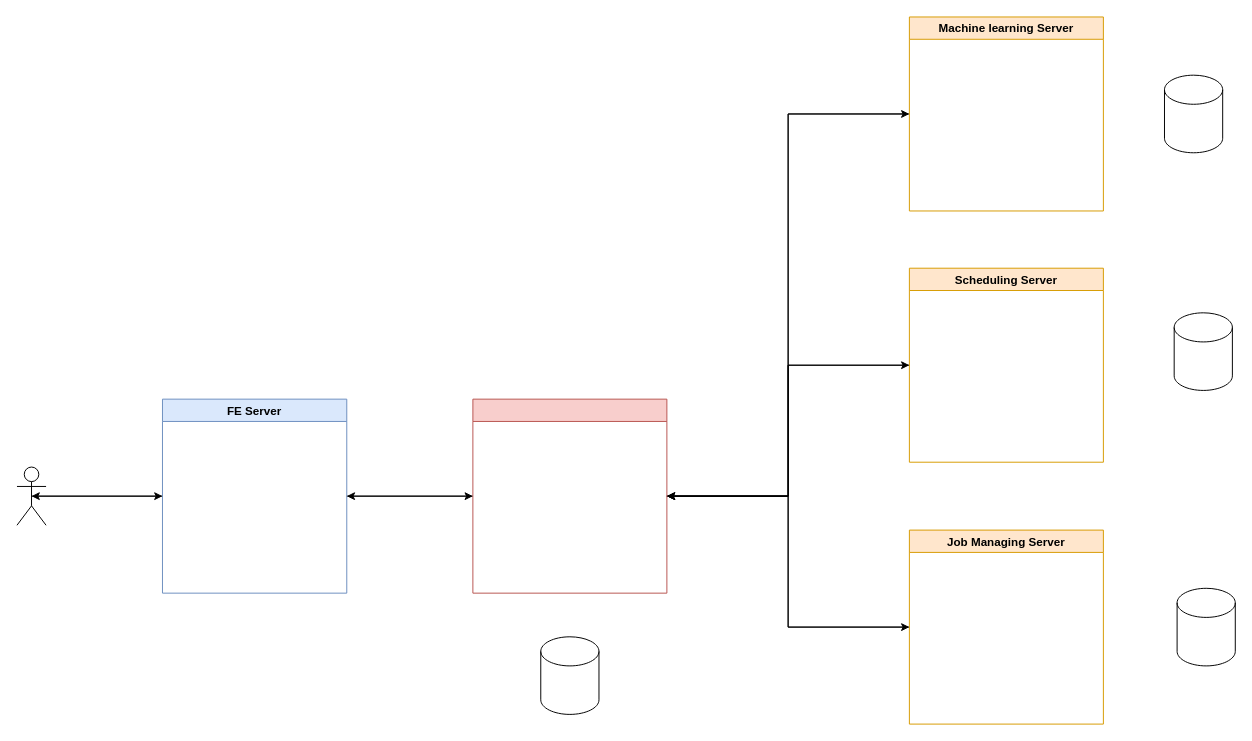
Image size: 1252x741. Some labels were removed from this diagram. Here are the shapes that lost their labels. From the top down, the box of each, then its label:
(16, 466, 46, 525): Client
(472, 398, 667, 593): Log-in Server
